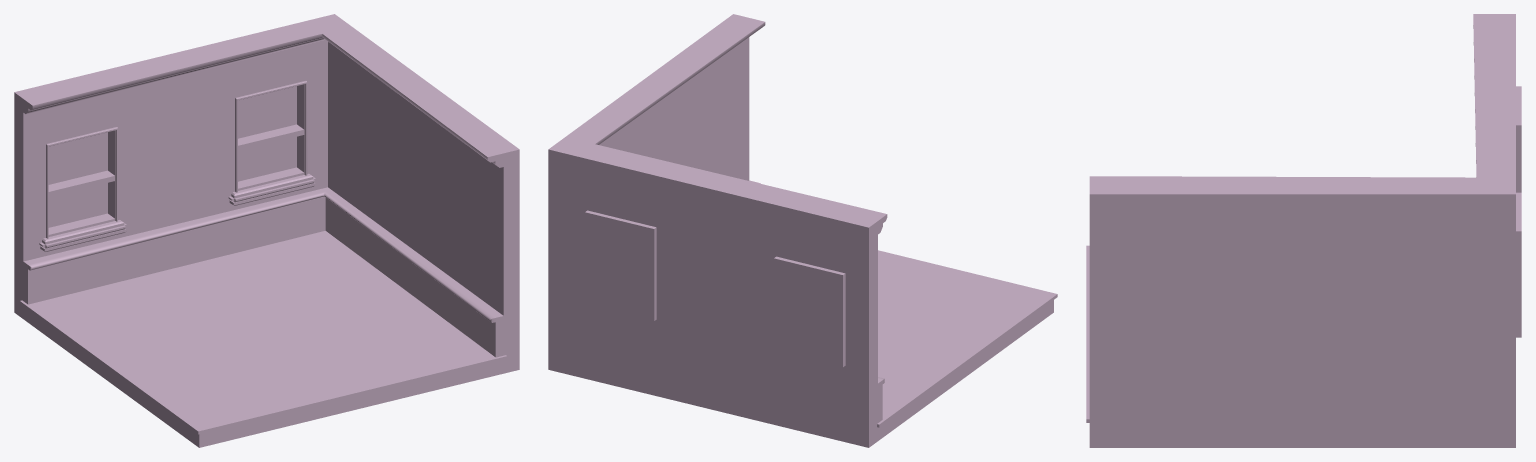
Rendered from Room 1.fbx.
The picture shows the model from 3 angles, left to right: view 1: azimuth 30°, elevation 25°; view 2: azimuth 150°, elevation 25°; view 3: azimuth 270°, elevation 25°; orthographic projection. The views are drawn at different scales.
Parts seen in each view (by area): view 1: Cube (×4), Cube.001, Box.003, Box; view 2: Cube (×4), Cube.001, Box.003; view 3: Cube (×4), Box.003, Cube.001.
Boxes of the visible parts, <box> form: Cube (×4): <box>14,14,519,447</box>; Cube.001: <box>20,230,507,434</box>; Box.003: <box>48,86,296,227</box>; Box: <box>39,81,315,252</box>; Cube (×4): <box>548,14,1053,447</box>; Cube.001: <box>877,250,1057,427</box>; Box.003: <box>585,210,845,367</box>; Cube (×4): <box>1089,14,1515,447</box>; Box.003: <box>1516,86,1521,337</box>; Cube.001: <box>1086,245,1089,422</box>.
Bounding box in the file's own units: 546 × 356 × 554.
